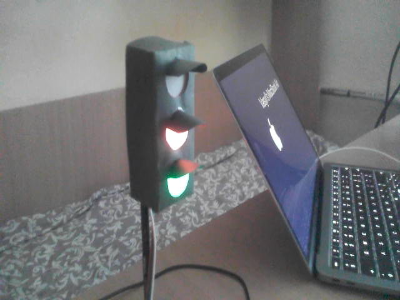trafficlight_green: (158, 43, 204, 211)
